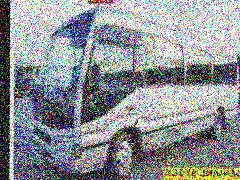bus: (32, 0, 238, 178)
